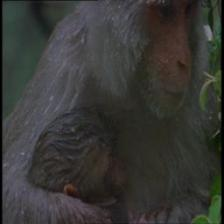monkey: (126, 0, 214, 131), (89, 110, 129, 222)
